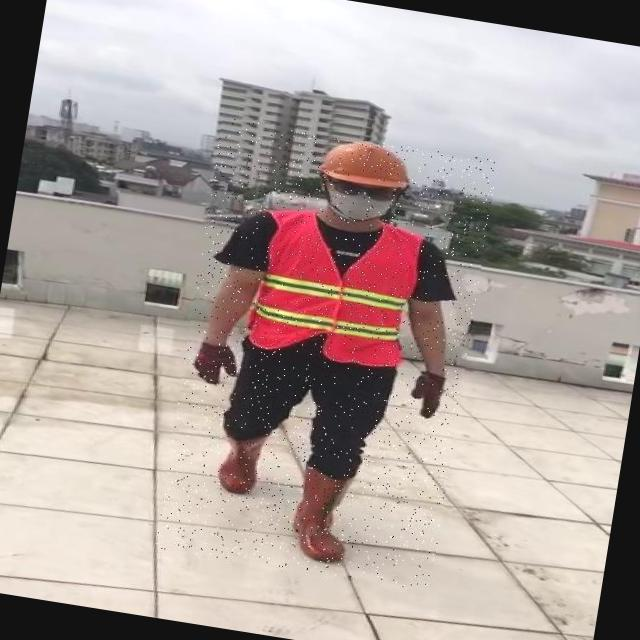boots: (290, 466, 360, 567), (207, 430, 270, 498)
gloves: (186, 328, 246, 392), (410, 352, 458, 431)
helmet: (316, 135, 416, 195)
vest: (244, 208, 421, 370)
